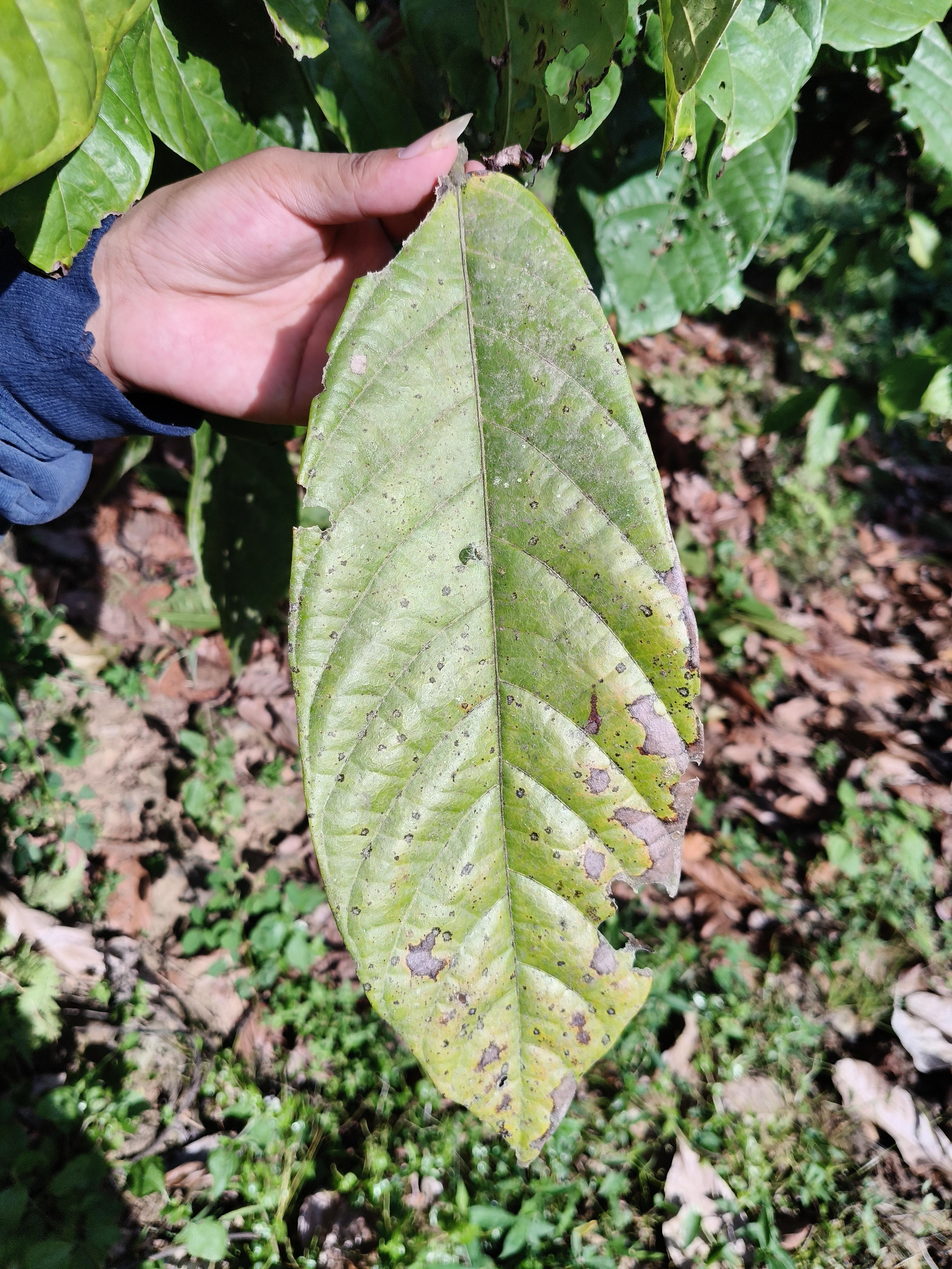deficiencia_potasio: (307, 186, 710, 1153)
